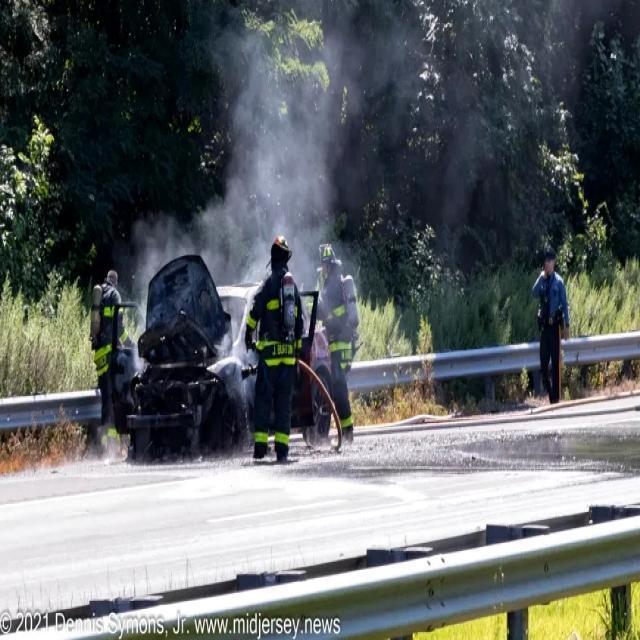Smoke: (152, 0, 372, 296)
